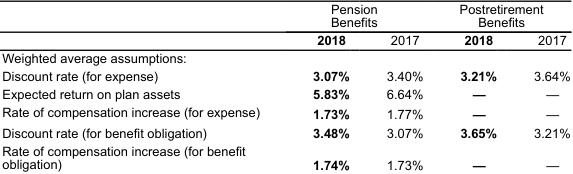table: (1, 1, 569, 171)
table column: (1, 1, 285, 171), (285, 1, 367, 171), (440, 1, 514, 171), (367, 1, 440, 171), (514, 1, 569, 171)
table column header: (1, 1, 569, 48)
table projected row header: (1, 48, 569, 66)
table row: (1, 141, 569, 171), (1, 1, 569, 30), (1, 102, 569, 123), (1, 30, 569, 48), (1, 48, 569, 66), (1, 66, 569, 84), (1, 84, 569, 102), (1, 123, 569, 141)
table spanning cell: (285, 1, 440, 30), (440, 1, 569, 30)
